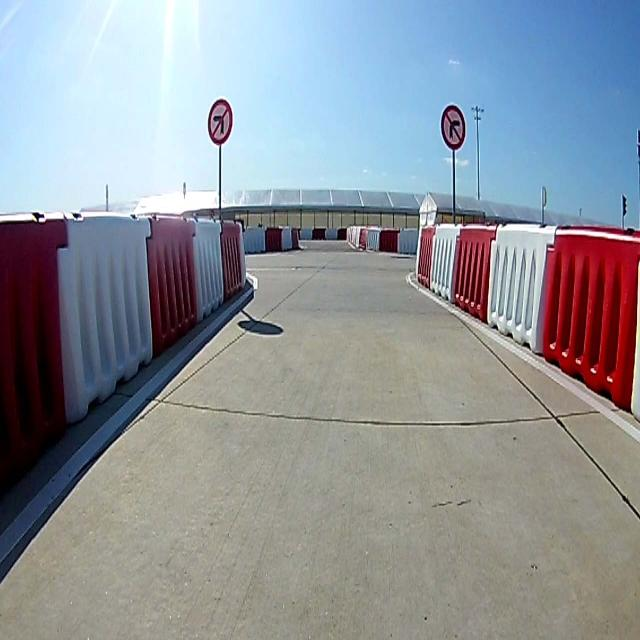sagadonulmez: (439, 106, 465, 149)
soladonulmez: (208, 99, 230, 140)
